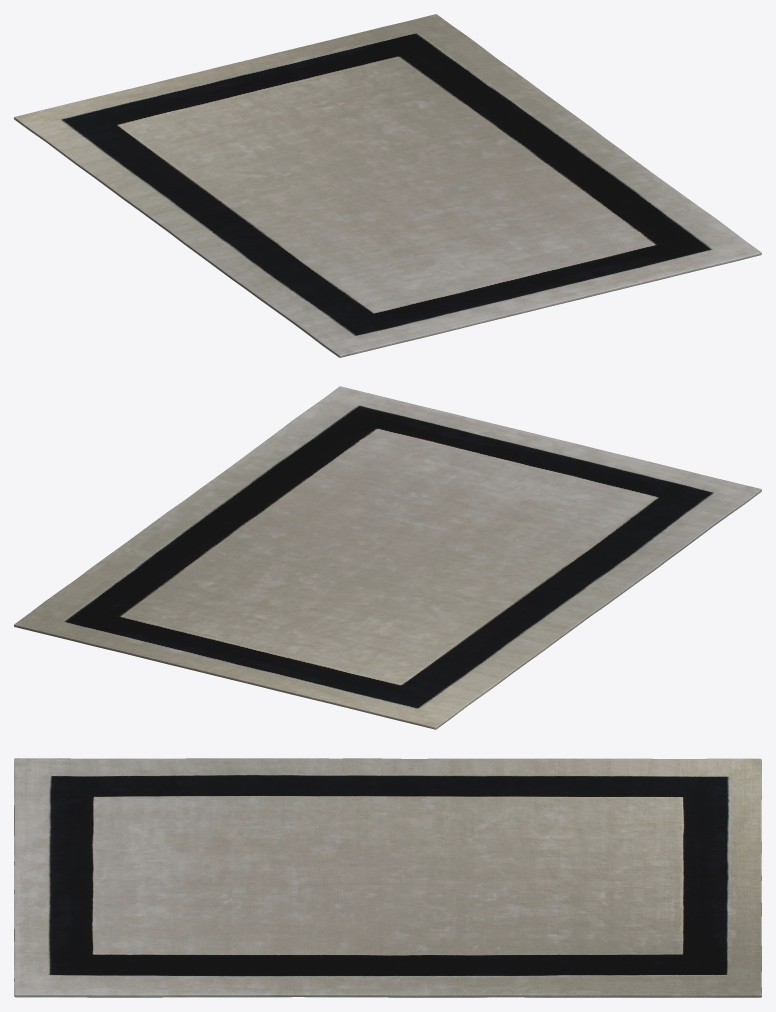
Rendered from rug.glb.
3 renders of one model, top to bottom at view 1: azimuth 30°, elevation 25°; view 2: azimuth 150°, elevation 25°; view 3: azimuth 270°, elevation 25°, orthographic. The views are drawn at different scales.
Parts seen in each view (by area): view 1: Simla_Bordered_Rugs_004; view 2: Simla_Bordered_Rugs_004; view 3: Simla_Bordered_Rugs_004.
Boxes of the visible parts, <box> form: Simla_Bordered_Rugs_004: <box>14,14,761,357</box>; Simla_Bordered_Rugs_004: <box>14,386,761,729</box>; Simla_Bordered_Rugs_004: <box>14,758,761,997</box>.
Size of the model in its own units: 3000 by 20.02 by 4000.
1 material, 1 textured.
